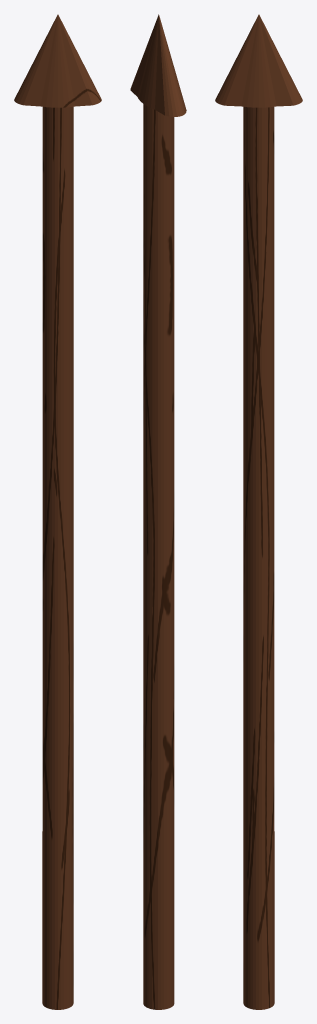
The model's file is basic_Wood_Spear.fbx.
3 renders of one model, left to right at view 1: azimuth 90°, elevation 25°; view 2: azimuth 210°, elevation 25°; view 3: azimuth 270°, elevation 25°, orthographic.
Visible parts, largest first — view 1: Cylinder, Cylinder.001; view 2: Cylinder, Cylinder.001; view 3: Cylinder, Cylinder.001.
Part boxes in pixels (x1,y1,x2,y2): Cylinder: (42,106,73,1009); Cylinder.001: (14,14,101,107); Cylinder: (143,104,174,1009); Cylinder.001: (130,14,186,116); Cylinder: (243,106,274,1009); Cylinder.001: (215,14,302,107).
Size of the model in its own units: 17 by 527 by 42.42.
Materials: 2 (2 with a texture image).
